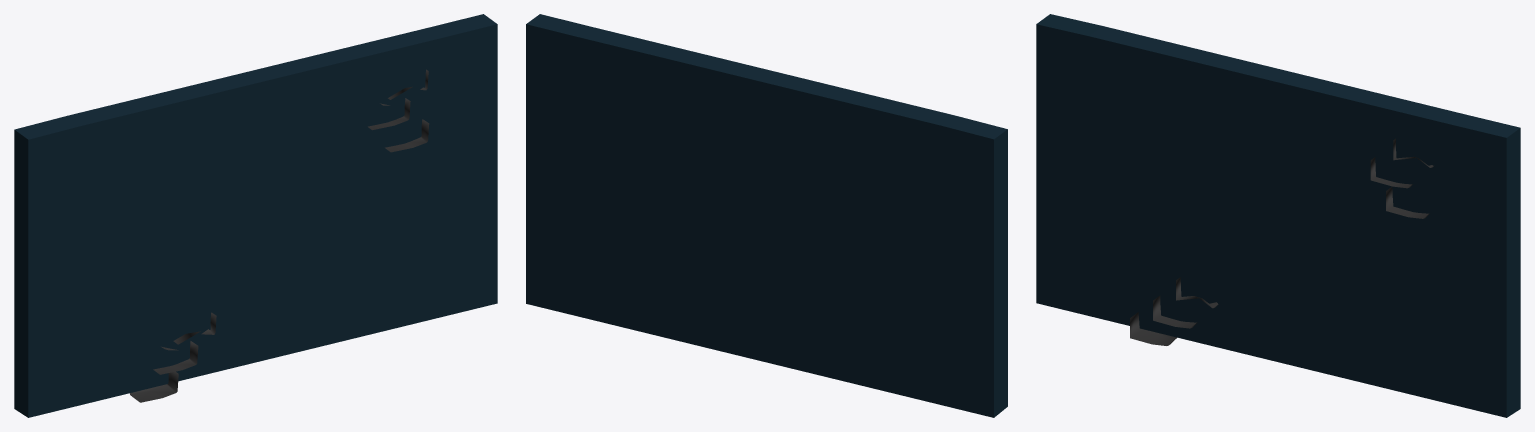
The model's file is wall No.1.fbx.
The picture shows the model from 3 angles, left to right: view 1: azimuth 30°, elevation 25°; view 2: azimuth 150°, elevation 25°; view 3: azimuth 330°, elevation 25°; orthographic projection.
Visible parts, largest first — view 1: 立方体.030; view 2: 立方体.030; view 3: 立方体.030.
Part boxes in pixels (left/top/right/bottom): 立方体.030: left=14, top=14, right=497, bottom=417; 立方体.030: left=526, top=14, right=1007, bottom=417; 立方体.030: left=1036, top=14, right=1520, bottom=417.
Size of the model in its own units: 1004 by 580 by 87.93.
